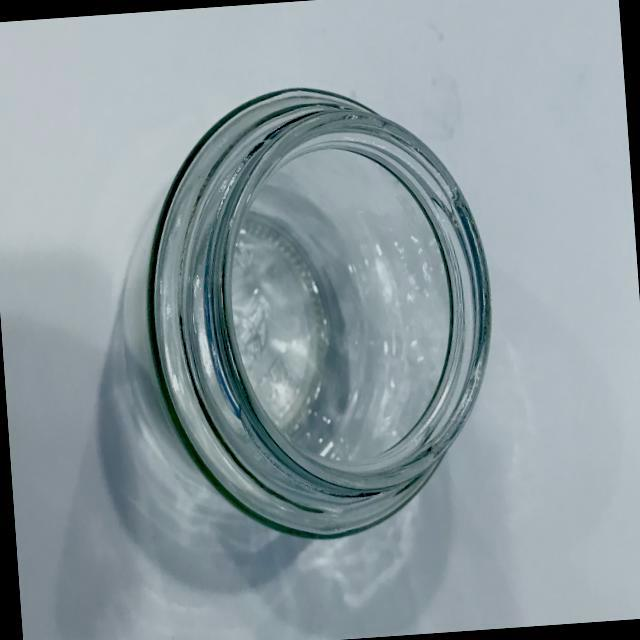glass: (71, 49, 522, 578)
